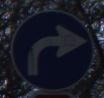turn: (9, 8, 95, 90)
